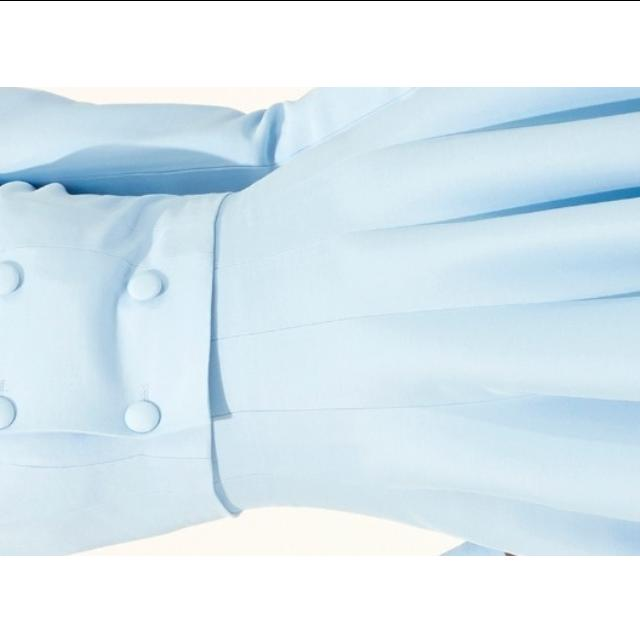silk: (0, 86, 640, 554)
